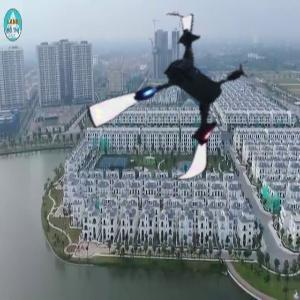drone: (90, 17, 264, 191)
